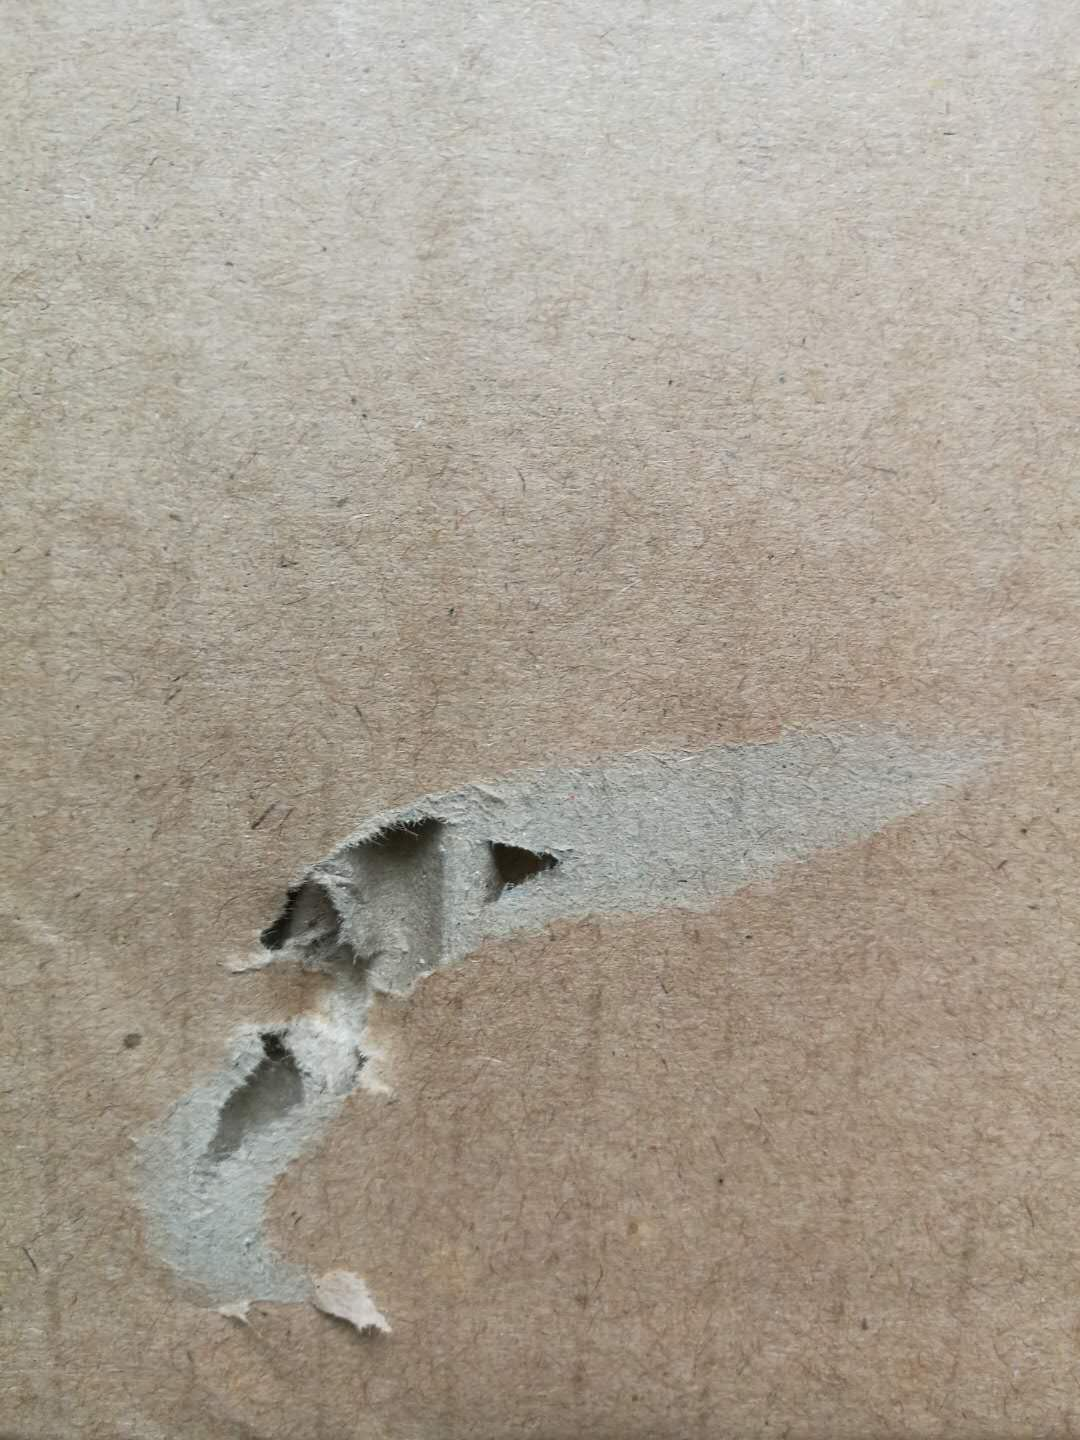defect: (86, 668, 1037, 1396)
